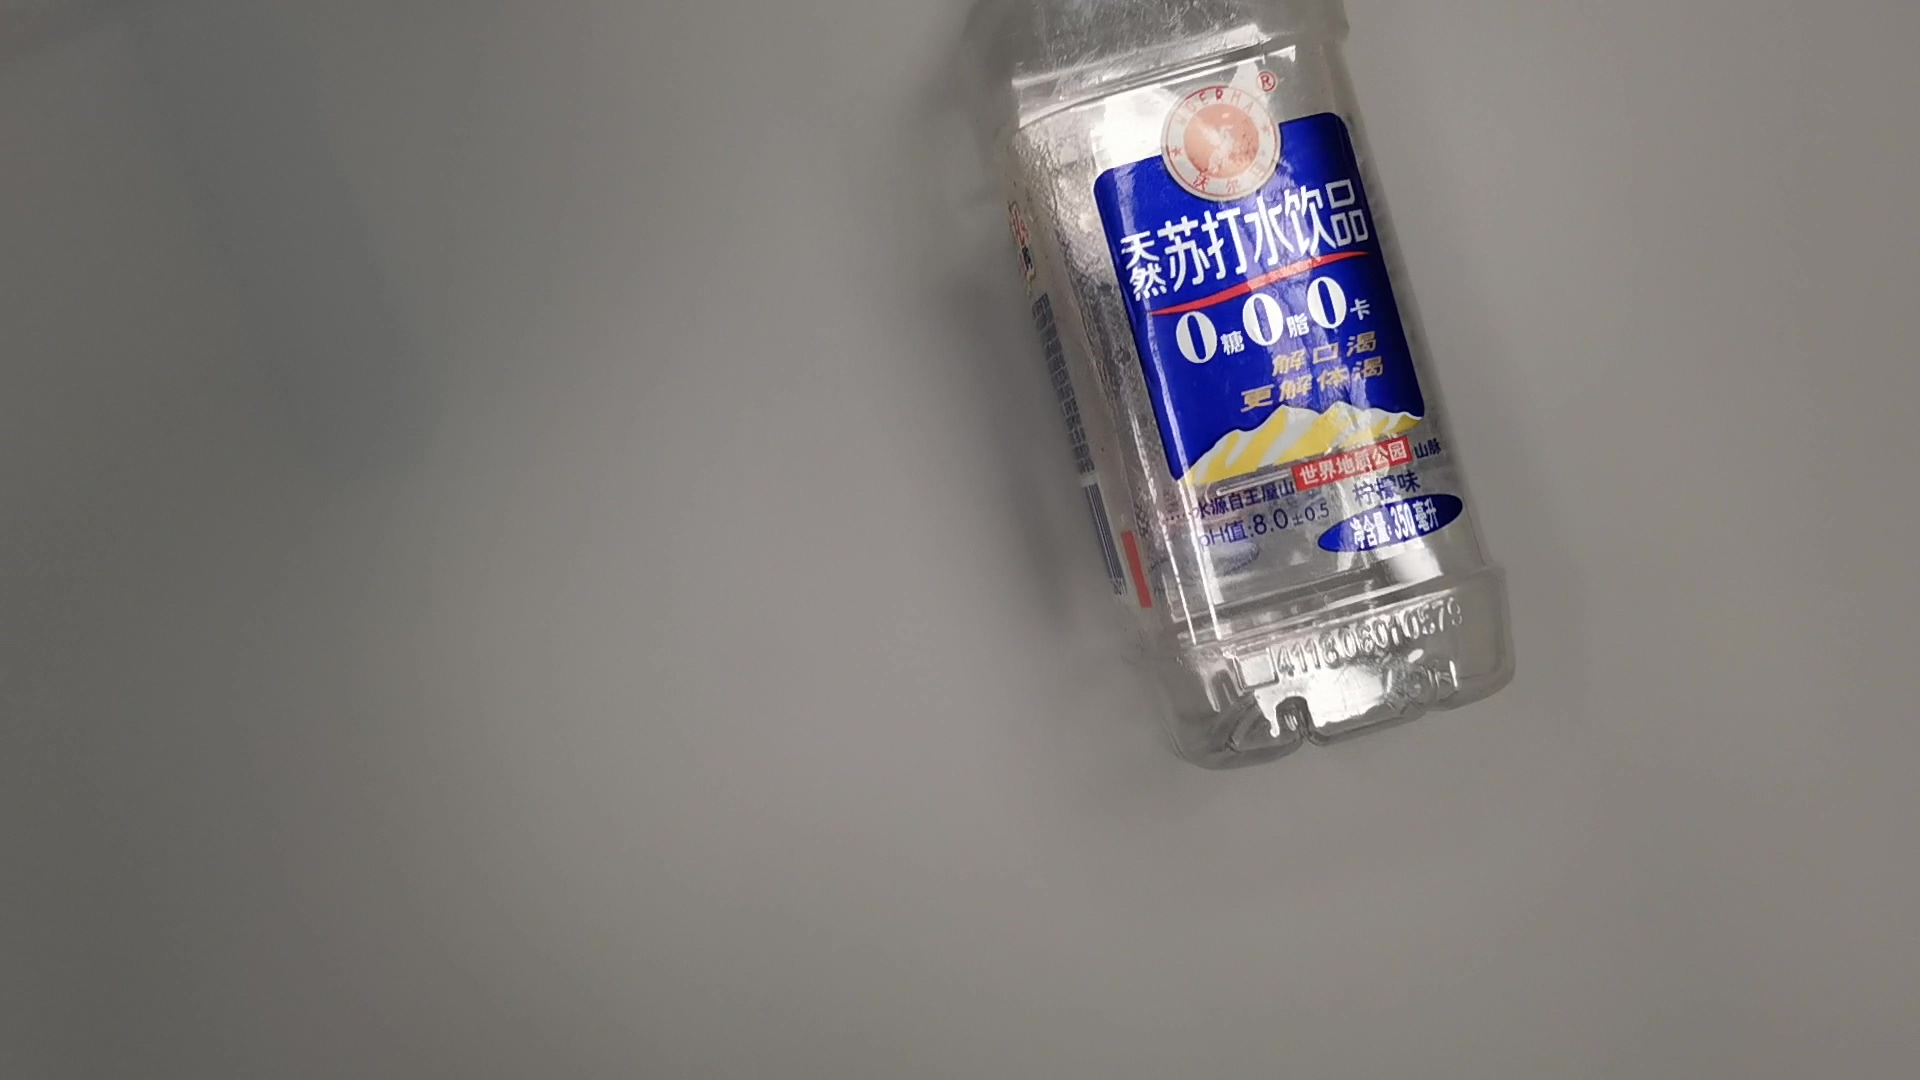bottle: (947, 1, 1523, 781)
